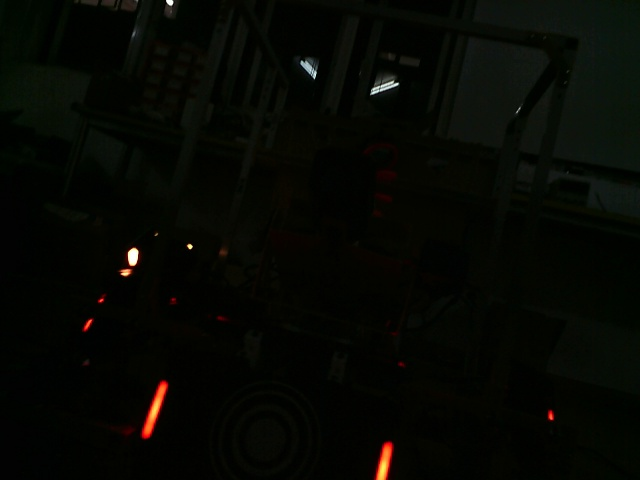lamp: (137, 376, 169, 443)
